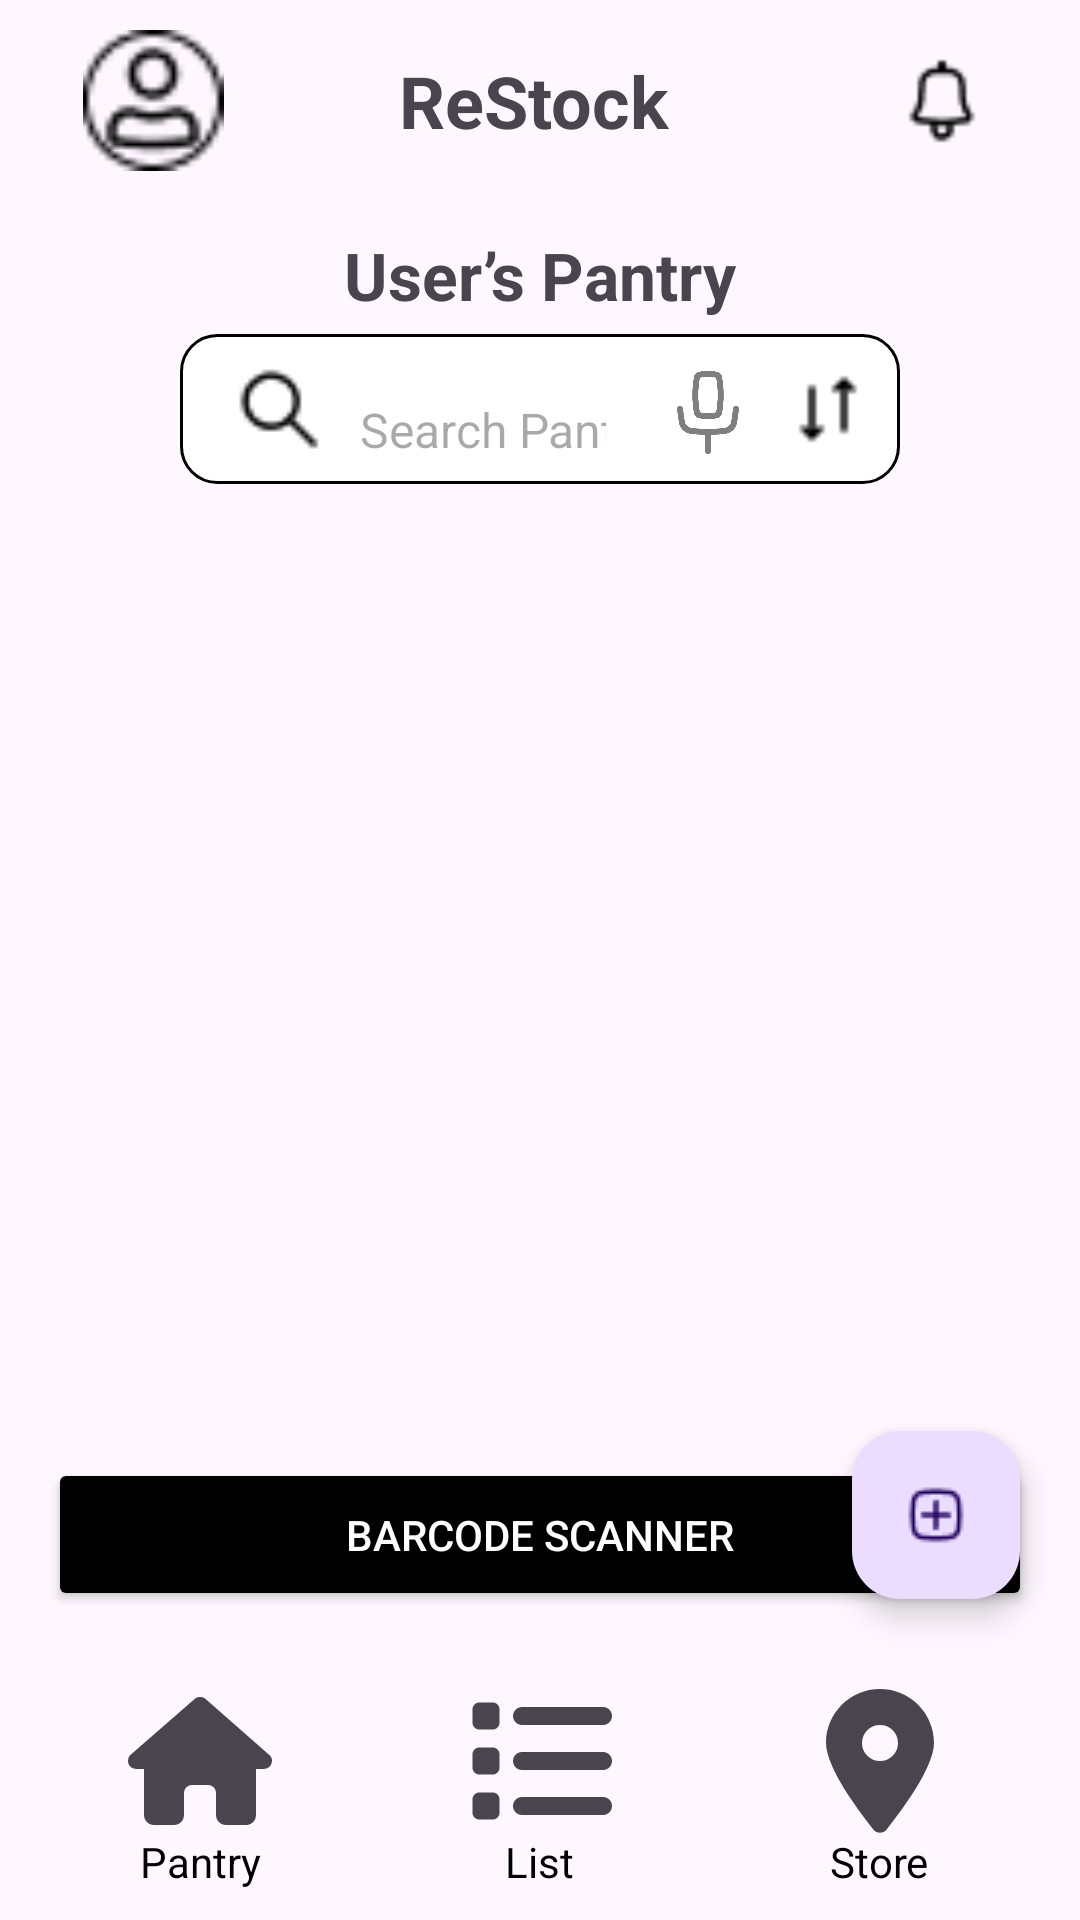

Point at icon controls on the screen. Image size 1080px×1920px, points as (x,y).
Add a new pantry item: (936,1515)
Notifications: (942,100)
Profile Icon: (153,100)
sort: (828,409)
Voice Search: (708,412)
